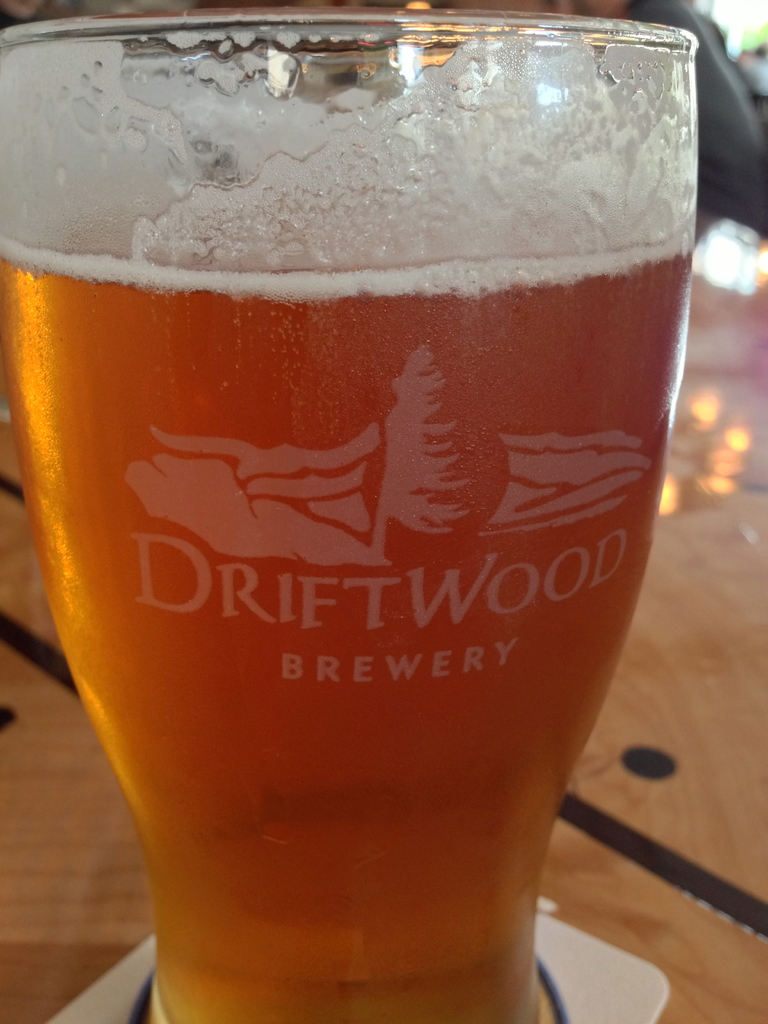Beer: (7, 132, 687, 1023)
